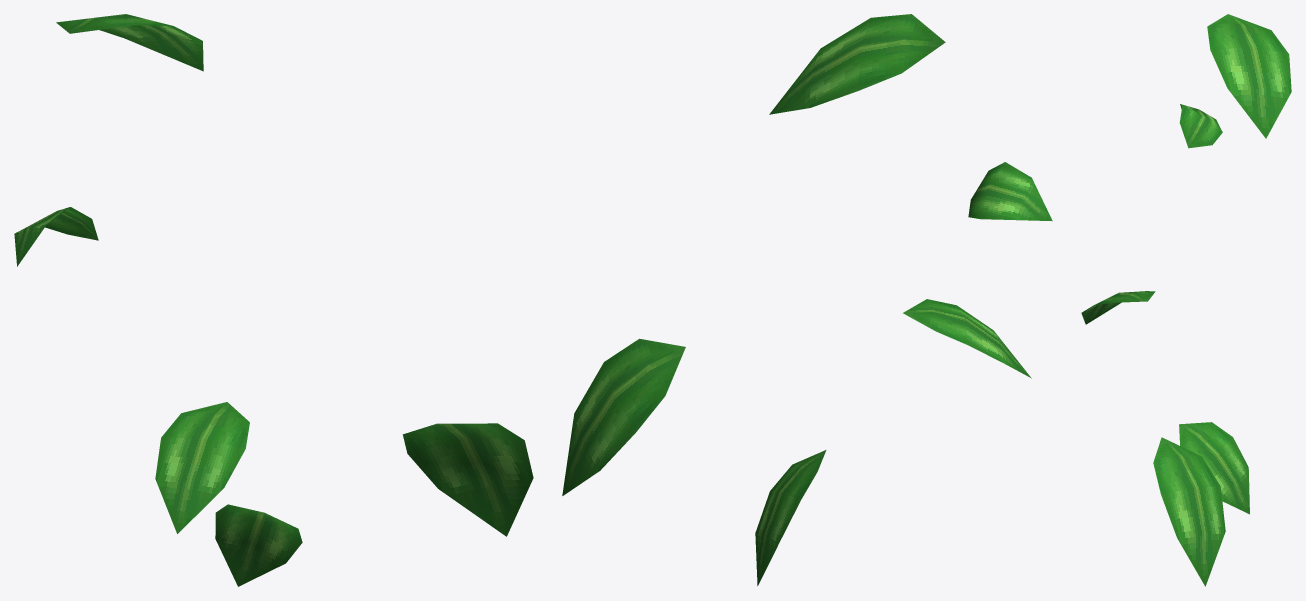
The model's file is EKH_BARRELROOM_PS_JA1_LEAVES943888.fbx.
3 views of the same model, side by side, from view 1: azimuth 30°, elevation 25°; view 2: azimuth 150°, elevation 25°; view 3: azimuth 270°, elevation 25° (orthographic). The views are drawn at different scales.
Visible parts, largest first — view 1: EKH_BARRELROOM_PS_JA1_LEAVES943888; view 2: EKH_BARRELROOM_PS_JA1_LEAVES943888; view 3: EKH_BARRELROOM_PS_JA1_LEAVES943888.
Boxes of the visible parts, x1=… form: EKH_BARRELROOM_PS_JA1_LEAVES943888: x1=14, y1=14, x2=533, y2=586; EKH_BARRELROOM_PS_JA1_LEAVES943888: x1=562, y1=14, x2=1052, y2=585; EKH_BARRELROOM_PS_JA1_LEAVES943888: x1=1081, y1=14, x2=1291, y2=586.
Bounding box in the file's own units: 7168 × 8258 × 3567.
1 material, 1 textured.
